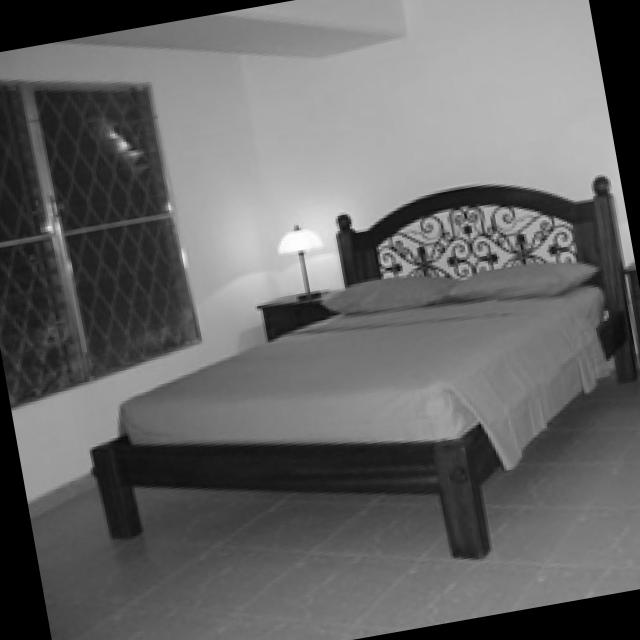basket crop: (382, 224, 436, 263)
bottle crop: (430, 105, 465, 137)
magazine holder: (509, 302, 575, 411)
picture occluded: (370, 51, 430, 144)
plant -x: (264, 0, 390, 61)
rack: (23, 20, 205, 231)
shelf crop: (254, 0, 610, 604), (74, 257, 308, 621)
toilet bowl: (310, 298, 529, 621)
towel basket: (432, 192, 545, 272), (151, 491, 257, 560), (203, 478, 298, 541), (111, 78, 196, 139), (133, 149, 190, 213), (88, 156, 139, 223), (134, 82, 190, 125), (111, 111, 157, 135)
towels: (155, 478, 298, 563), (89, 148, 184, 223)
vase -X: (166, 283, 230, 348), (46, 67, 90, 144), (87, 87, 107, 142)
